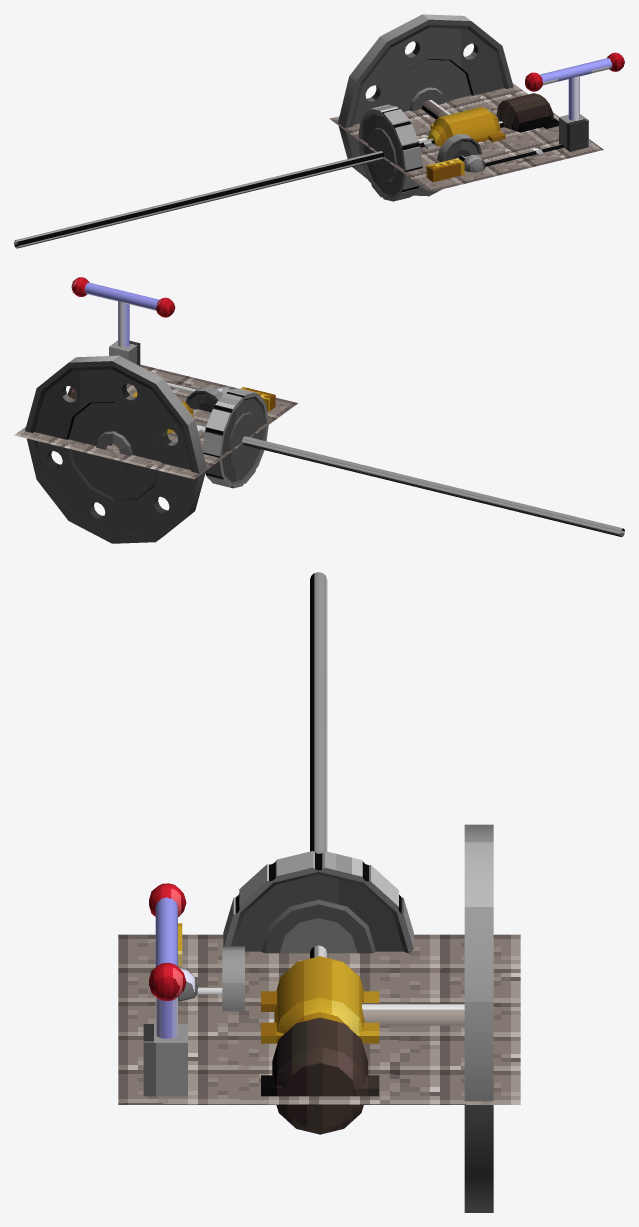
File: mechanismx00.gltf
3 renders of one model, top to bottom at view 1: azimuth 30°, elevation 25°; view 2: azimuth 150°, elevation 25°; view 3: azimuth 270°, elevation 25°, orthographic. The views are drawn at different scales.
Parts seen in each view (by area): view 1: mechanismx00; view 2: mechanismx00; view 3: mechanismx00.
Boxes of the visible parts, left/top/right/bottom form: mechanismx00: left=14, top=14, right=624, bottom=248; mechanismx00: left=14, top=277, right=624, bottom=543; mechanismx00: left=118, top=572, right=520, bottom=1212.
Size of the model in its own units: 16.34 by 4.84 by 5.
Materials: 5 (5 with a texture image).
